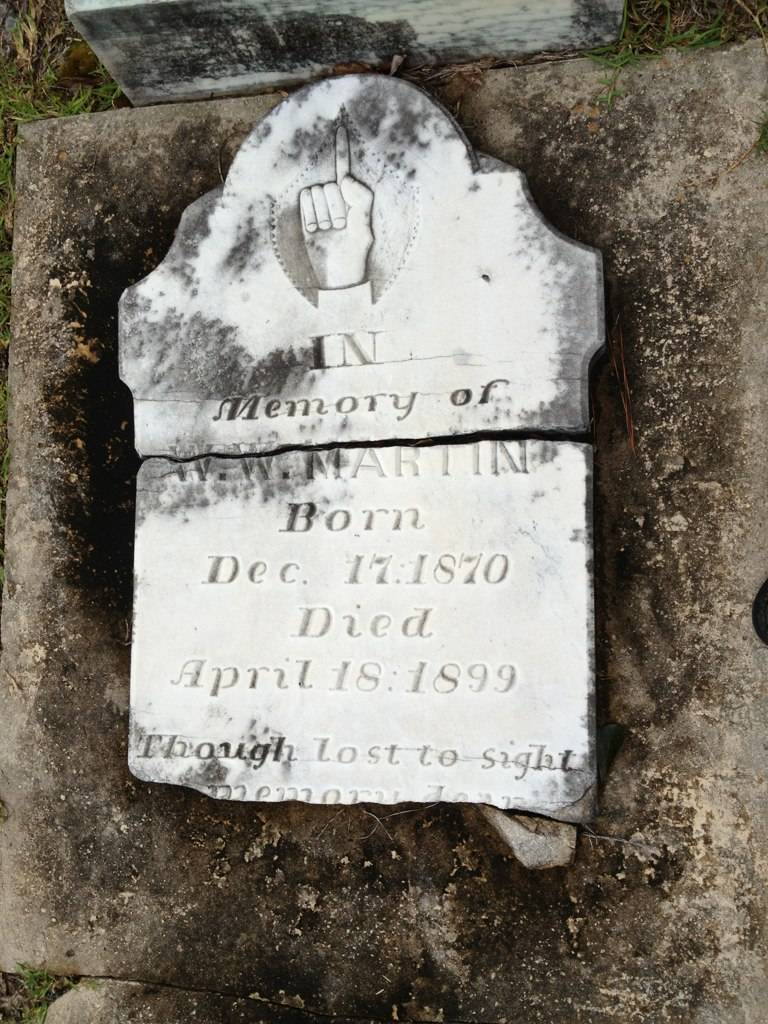upright: (94, 78, 640, 843)
